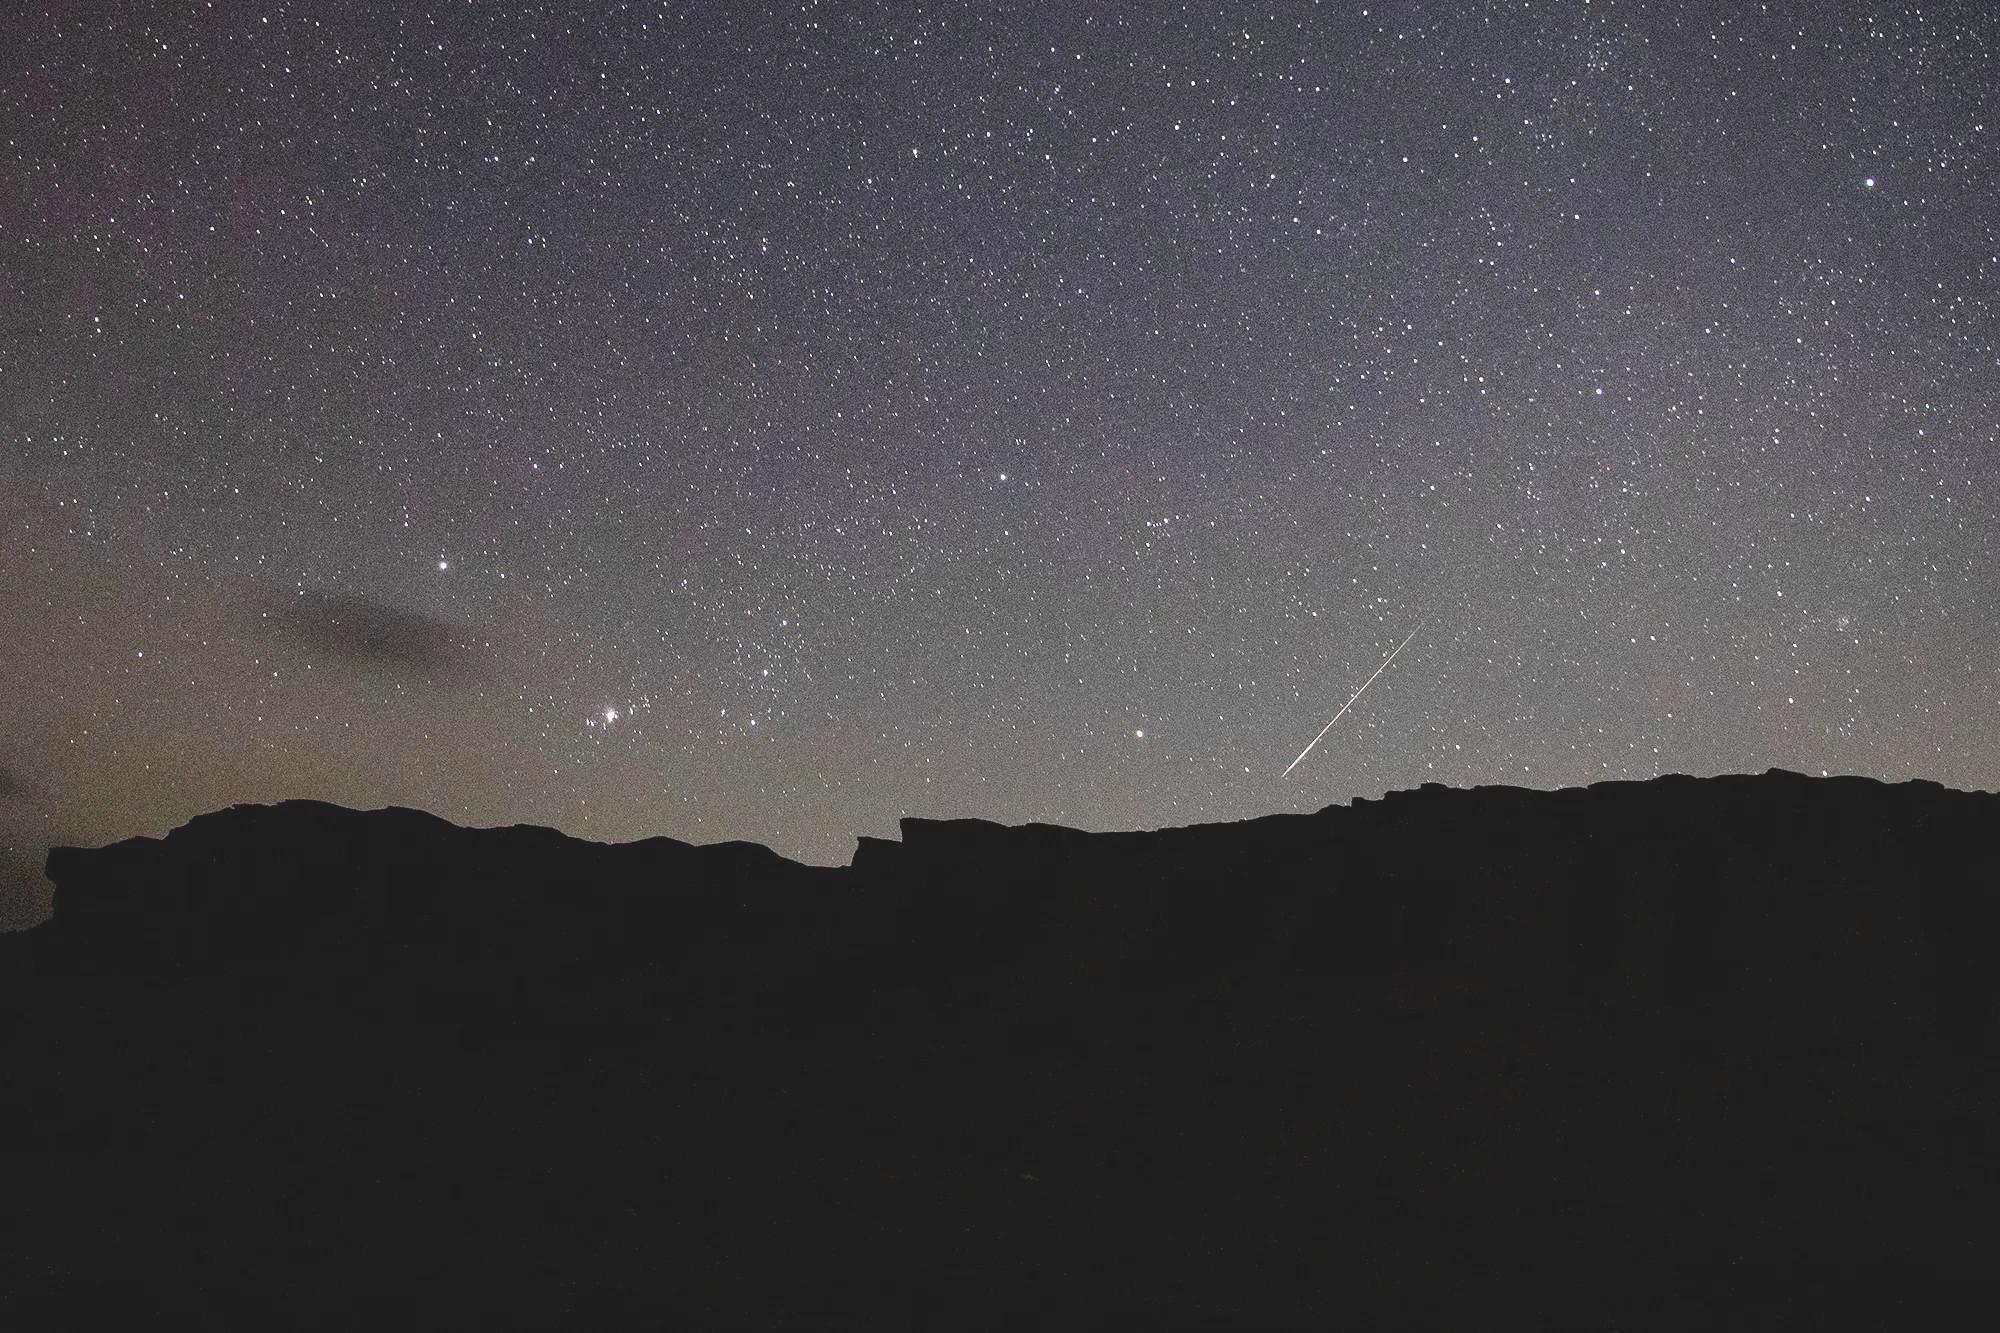meteorite: (1259, 622, 1422, 781)
